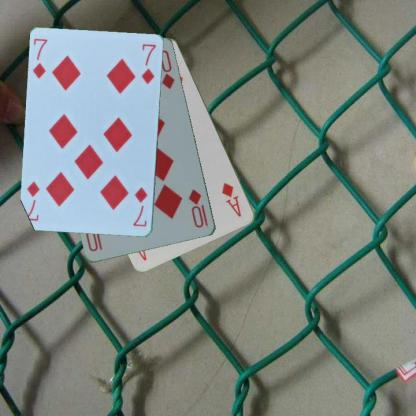10d: (186, 186, 210, 230)
7d: (30, 36, 49, 80), (131, 185, 149, 228)
Ad: (219, 180, 243, 218)
